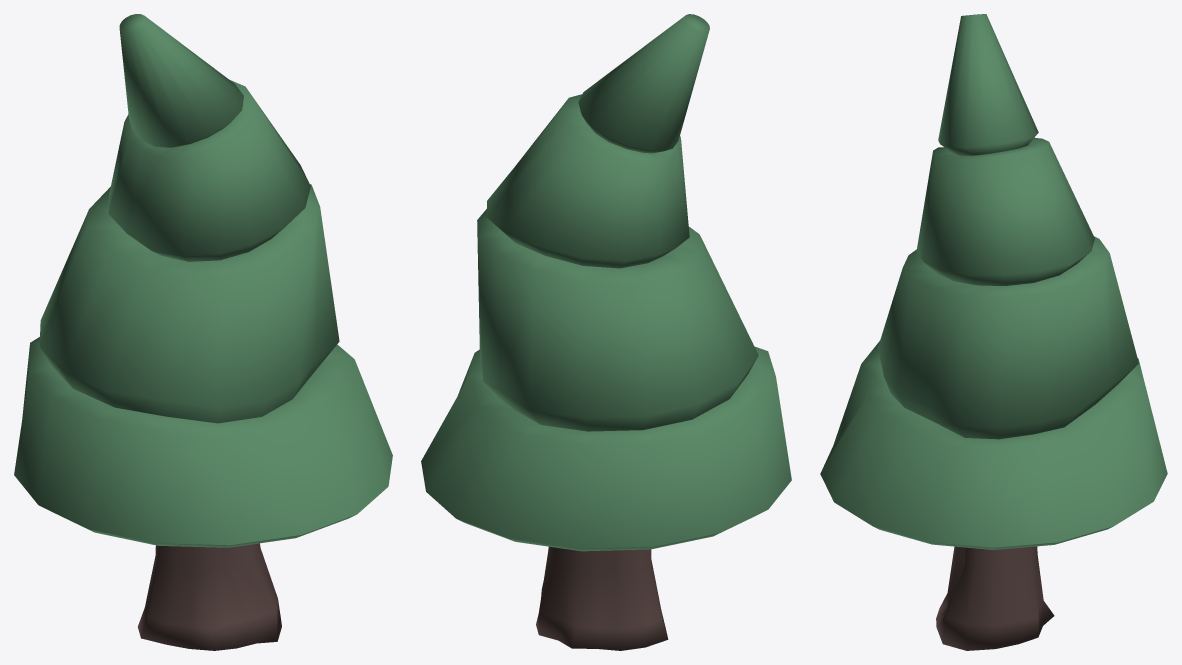
File: Tree2.fbx
3 renders of one model, left to right at view 1: azimuth 30°, elevation 25°; view 2: azimuth 150°, elevation 25°; view 3: azimuth 270°, elevation 25°, orthographic. The views are drawn at different scales.
Visible parts, largest first — view 1: Tree2; view 2: Tree2; view 3: Tree2.
Part boxes in pixels (box(x1,y1,x2,y2)): Tree2: box(14, 14, 392, 650); Tree2: box(421, 14, 791, 650); Tree2: box(820, 14, 1167, 650).
Size of the model in its own units: 1912 by 3533 by 1924.
